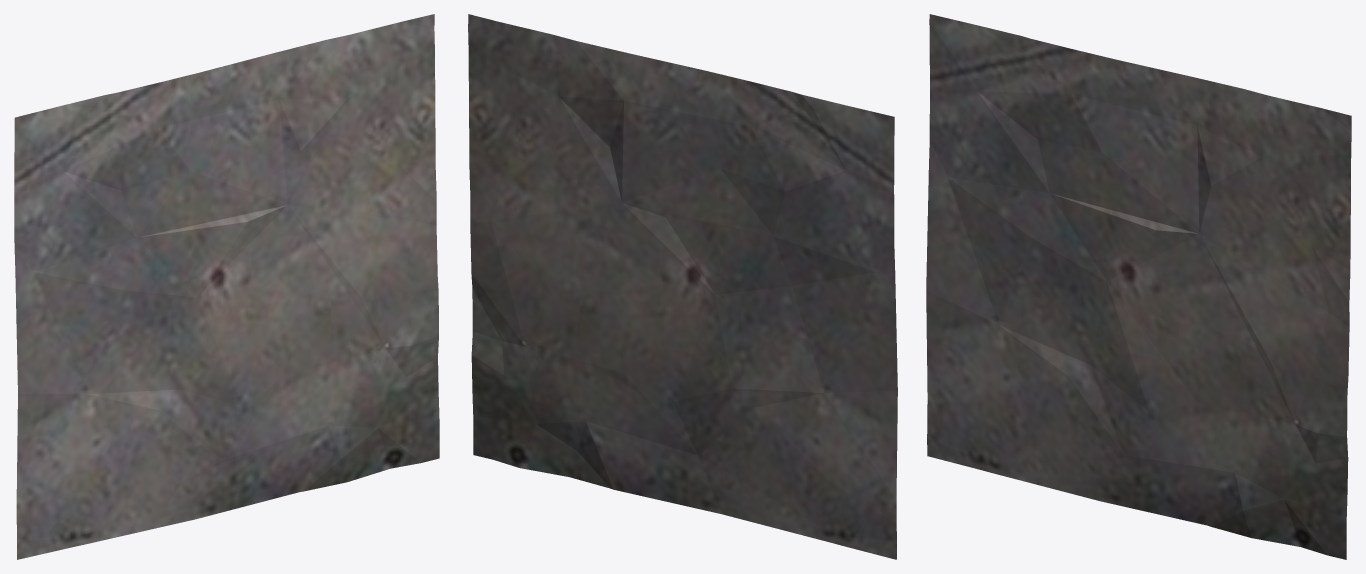
File: Tile_+001_+007_L23_001102.obj
The picture shows the model from 3 angles, left to right: view 1: azimuth 30°, elevation 25°; view 2: azimuth 150°, elevation 25°; view 3: azimuth 330°, elevation 25°; orthographic projection.
Size of the model in its own units: 1.91 by 1.91 by 0.0651.
1 material, 1 textured.
